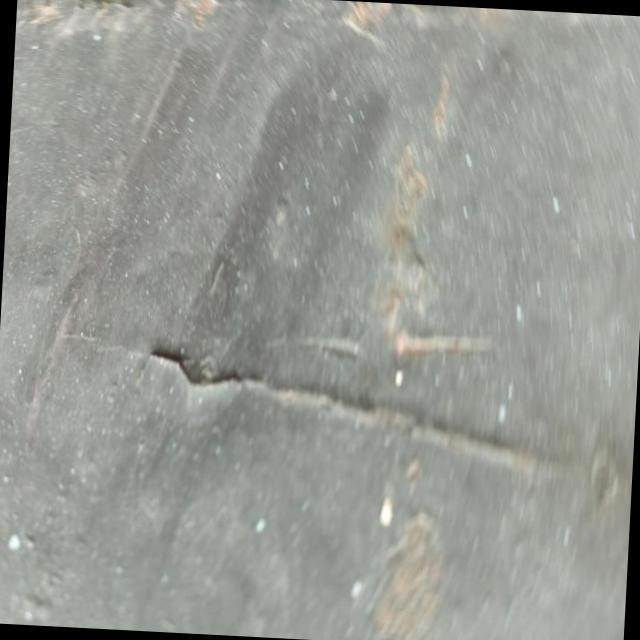defect: (144, 347, 562, 471)
